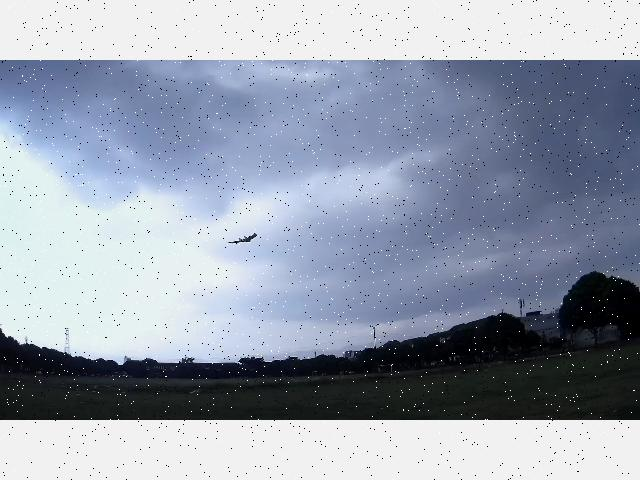Anti-Drone: (228, 233, 256, 243)
